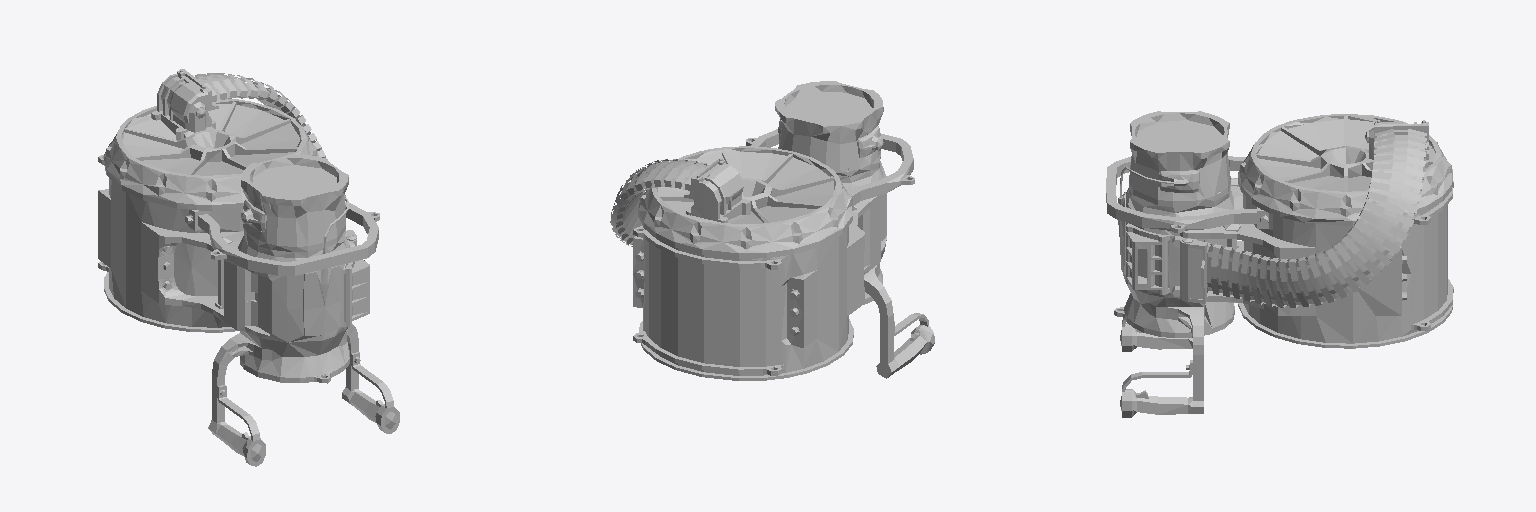
File: MinigunBase.obj
3 views of the same model, side by side, from view 1: azimuth 30°, elevation 25°; view 2: azimuth 150°, elevation 25°; view 3: azimuth 270°, elevation 25° (orthographic).
Parts seen in each view (by area): view 1: Minigun001:0; view 2: Minigun001:0, AmmoBelt:0; view 3: Minigun001:0, AmmoBelt:0.
Part boxes in pixels (x1,y1,x2,y2): Minigun001:0: (98, 69, 399, 466); Minigun001:0: (610, 81, 934, 380); AmmoBelt:0: (613, 162, 701, 244); Minigun001:0: (1106, 111, 1453, 417); AmmoBelt:0: (1207, 136, 1425, 305).
Bounding box in the file's own units: 32.28 × 39.34 × 46.27.